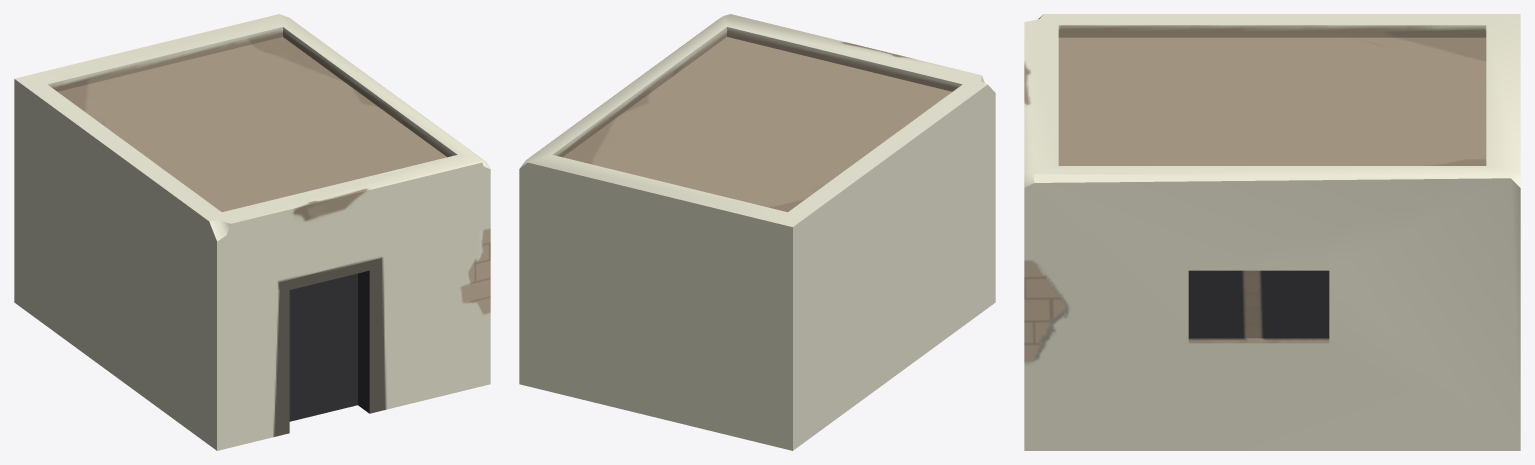
File: n_house2.FBX
3 views of the same model, side by side, from view 1: azimuth 30°, elevation 25°; view 2: azimuth 150°, elevation 25°; view 3: azimuth 270°, elevation 25° (orthographic). The views are drawn at different scales.
Parts seen in each view (by area): view 1: Box001; view 2: Box001; view 3: Box001.
Part boxes in pixels (left/top/right/bottom): Box001: left=14, top=14, right=490, bottom=450; Box001: left=519, top=14, right=995, bottom=450; Box001: left=1024, top=14, right=1520, bottom=450.
Size of the model in its own units: 118 by 92.3 by 152.
